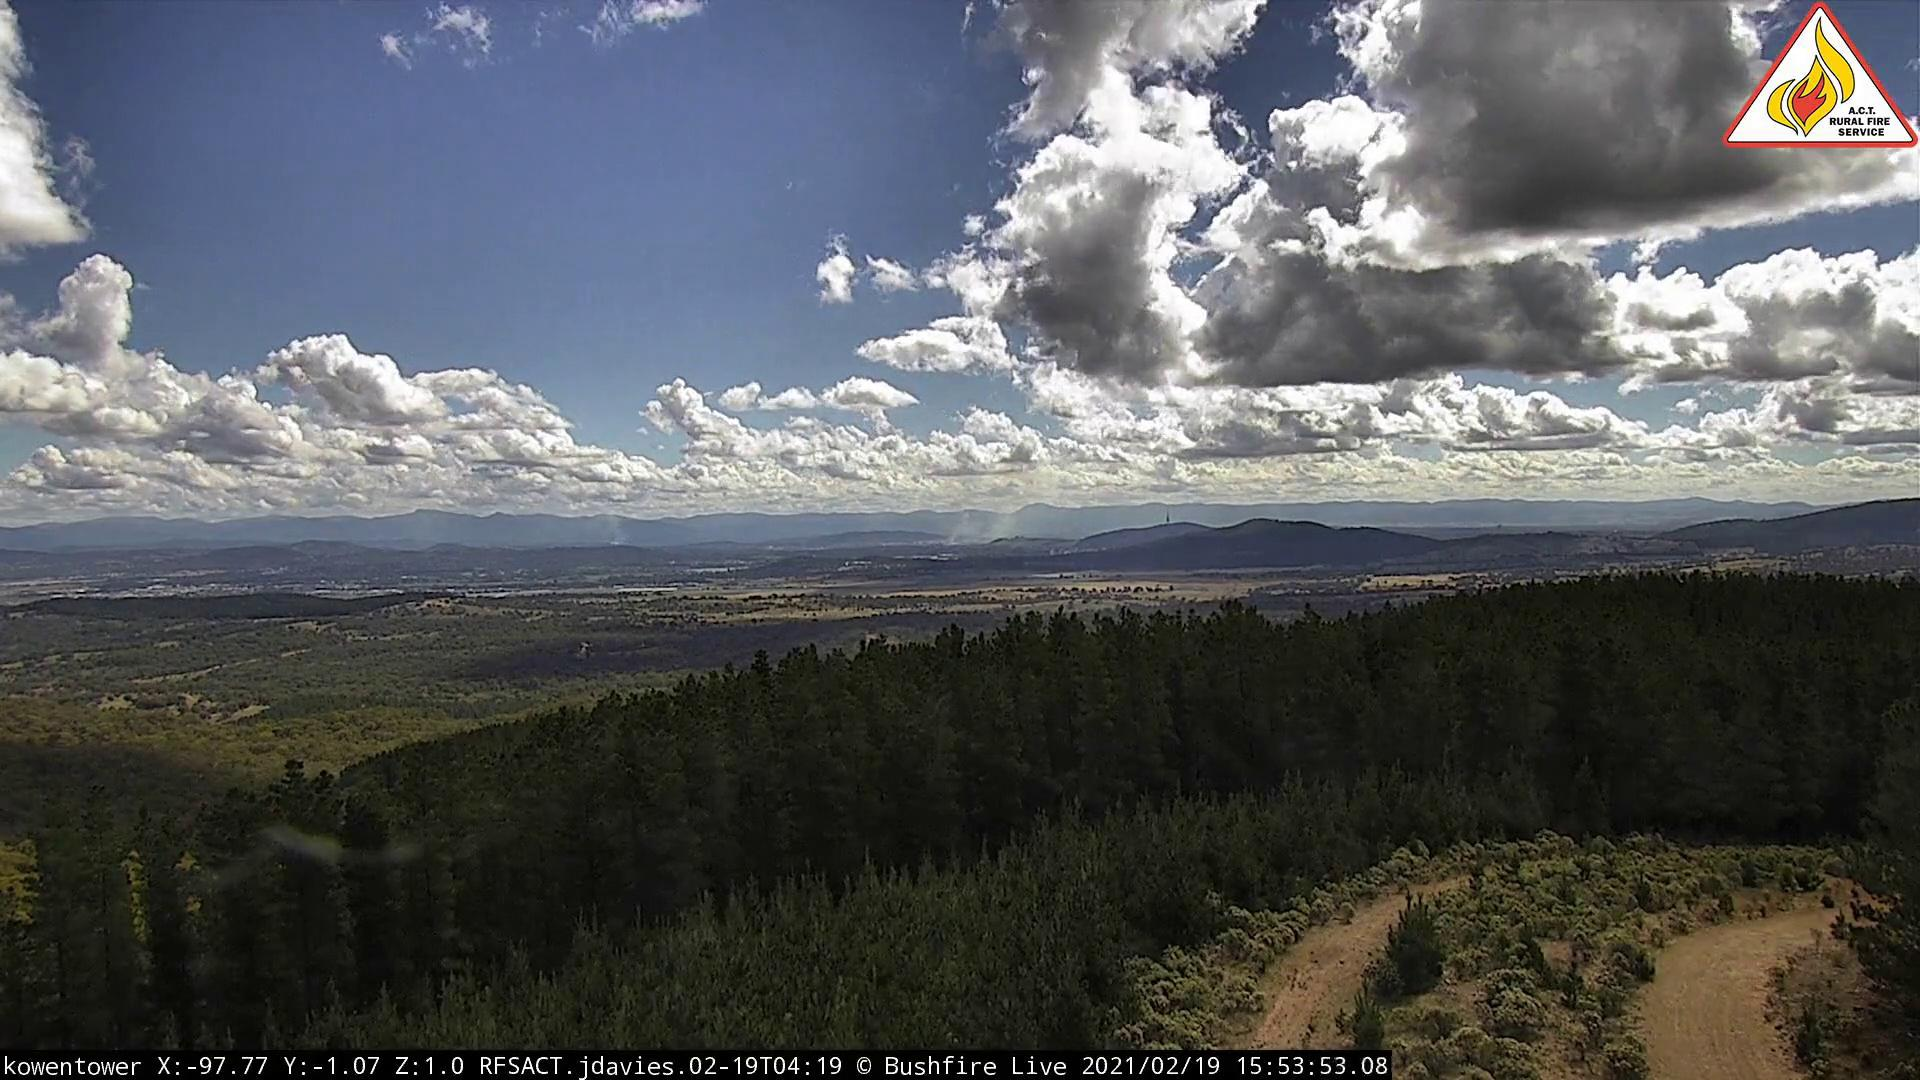Smoke: (945, 502, 1022, 549), (609, 526, 632, 553)
